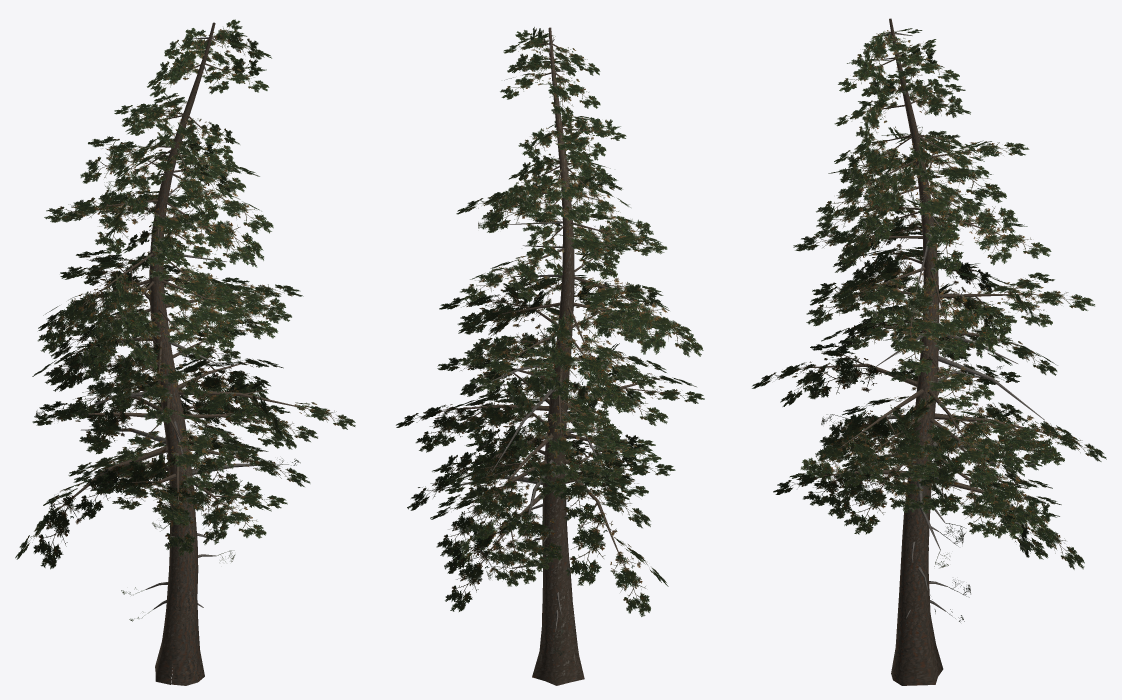
Rendered from tree_v6_pine_mangy_straight_summer.glb.
3 renders of one model, left to right at view 1: azimuth 30°, elevation 25°; view 2: azimuth 150°, elevation 25°; view 3: azimuth 270°, elevation 25°, orthographic. The views are drawn at different scales.
Parts seen in each view (by area): view 1: tree_v6_pine_mangy_straight_summer_LOD0; view 2: tree_v6_pine_mangy_straight_summer_LOD0; view 3: tree_v6_pine_mangy_straight_summer_LOD0.
Boxes of the visible parts, x1,y1,x2,y2 form: tree_v6_pine_mangy_straight_summer_LOD0: (15, 19, 355, 685); tree_v6_pine_mangy_straight_summer_LOD0: (396, 27, 704, 685); tree_v6_pine_mangy_straight_summer_LOD0: (752, 18, 1106, 685).
Size of what is drawn, in the model's own units: 6.03 by 13.27 by 6.48.
Materials: 1 (1 with a texture image).
